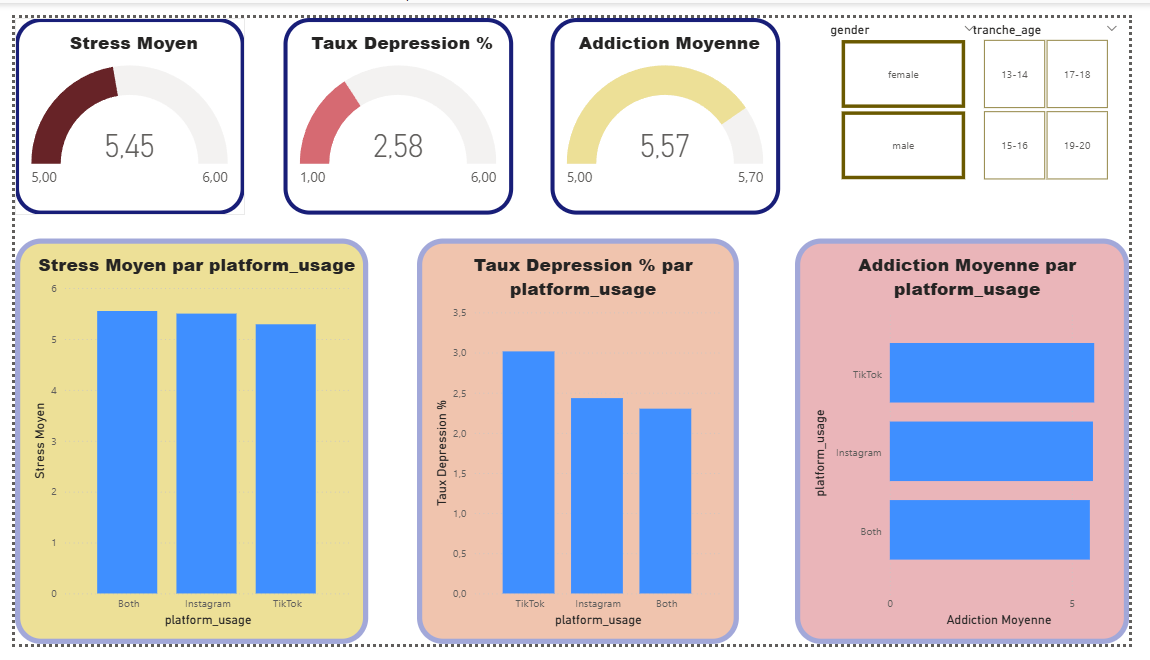

Layout of this report page (visuals, bound fields, positions):
{"tool":"powerbi","page":{"name":"Analyse par plateforme","canvas":[1280,720],"ordinal":1},"visuals":[{"type":"gauge","fields":{"Y":["public fait_sante_mentale.Stress Moyen"]},"box":[0,0,264,226],"z":0},{"type":"gauge","fields":{"Y":["public fait_sante_mentale.Addiction Moyenne"]},"box":[616,0,264,226],"z":1000},{"type":"gauge","fields":{"Y":["public fait_sante_mentale.Taux Depression %"]},"box":[308,0,264,226],"z":2000},{"type":"columnChart","fields":{"Category":["public dim_platform.platform_usage"],"Y":["public fait_sante_mentale.Stress Moyen"]},"box":[0,254,406,466],"z":3000},{"type":"clusteredBarChart","fields":{"Category":["public dim_platform.platform_usage"],"Y":["public fait_sante_mentale.Addiction Moyenne"]},"box":[896,254,384,466],"z":4000},{"type":"clusteredColumnChart","fields":{"Category":["public dim_platform.platform_usage"],"Y":["public fait_sante_mentale.Taux Depression %"]},"box":[462,254,370,466],"z":5000},{"type":"slicer","fields":{"Values":["public dim_age.tranche_age"]},"box":[1088,0,192,192],"z":6000},{"type":"slicer","fields":{"Values":["public dim_gender.gender"]},"box":[924,0,192,192],"z":7000}]}

Visuals, with their boxes in screenshot pixels (x1, y1, x2, y2), scaled from the page's 1280x720 canvas onto the 1150x660 screenshot:
gauge - public fait_sante_mentale.Stress Moyen: box=[0, 0, 237, 207]
gauge - public fait_sante_mentale.Addiction Moyenne: box=[553, 0, 791, 207]
gauge - public fait_sante_mentale.Taux Depression %: box=[277, 0, 514, 207]
columnChart - public dim_platform.platform_usage x public fait_sante_mentale.Stress Moyen: box=[0, 233, 365, 659]
clusteredBarChart - public dim_platform.platform_usage x public fait_sante_mentale.Addiction Moyenne: box=[805, 233, 1149, 659]
clusteredColumnChart - public dim_platform.platform_usage x public fait_sante_mentale.Taux Depression %: box=[415, 233, 748, 659]
slicer - public dim_age.tranche_age: box=[978, 0, 1149, 176]
slicer - public dim_gender.gender: box=[830, 0, 1003, 176]
